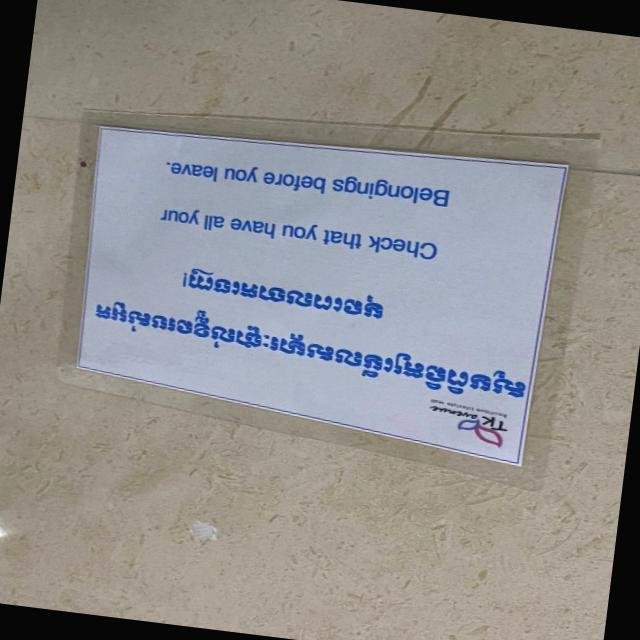Yolov11_80vkh: (82, 285, 531, 412), (172, 254, 391, 330)
